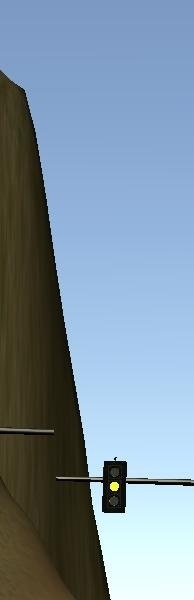Yellow: (103, 460, 125, 515)
